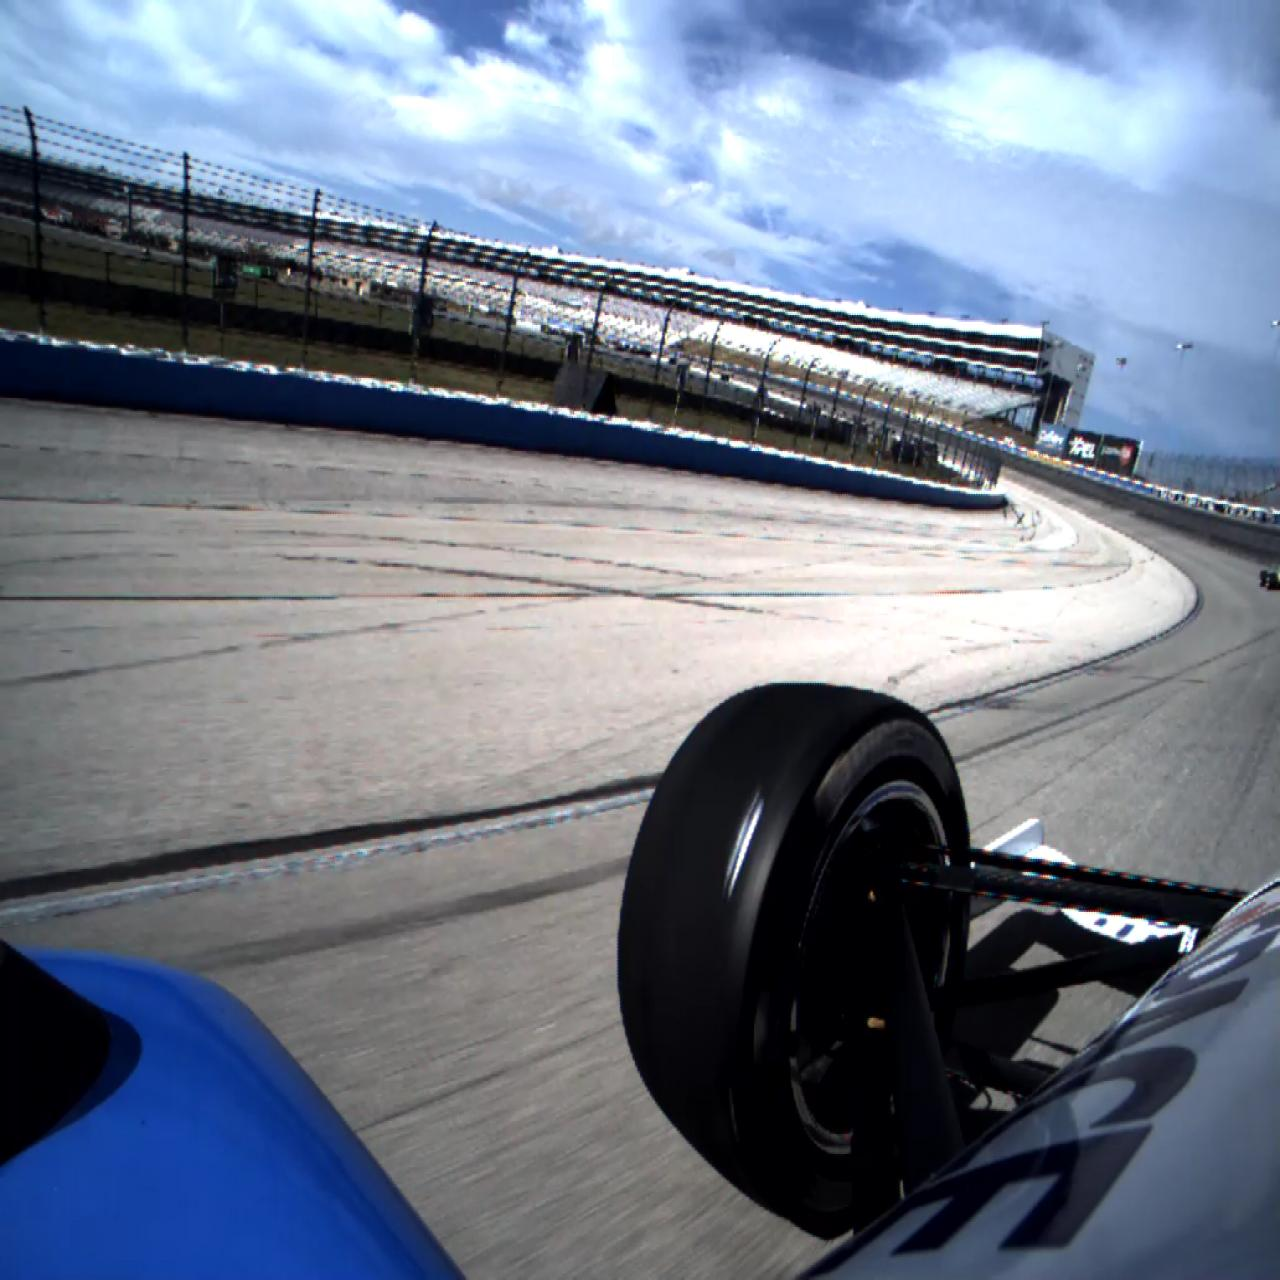Wheel: (618, 682, 973, 1226), (1267, 573, 1278, 591), (1260, 571, 1268, 587)
